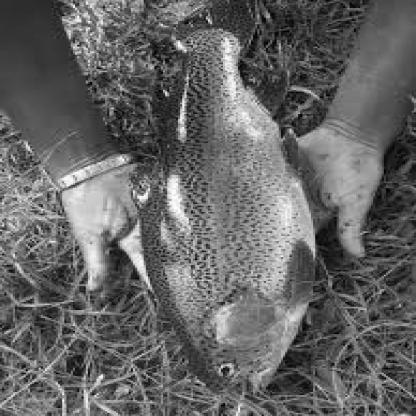fish: (132, 0, 316, 395)
